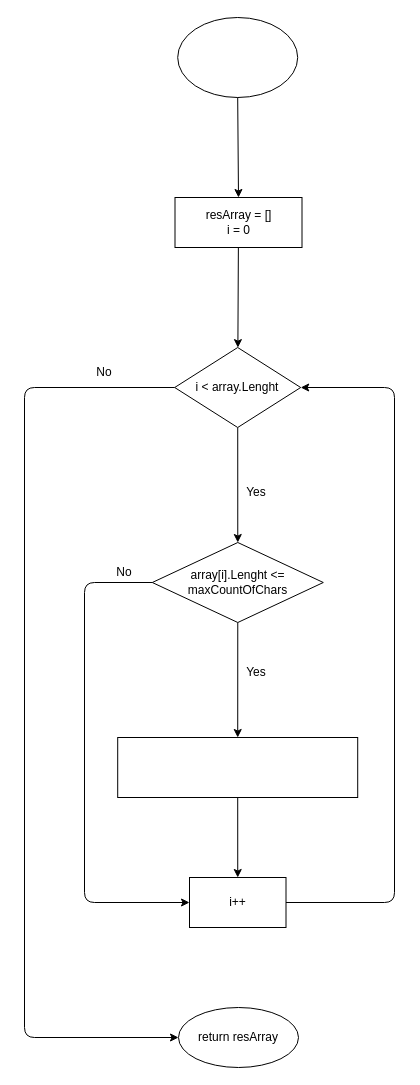
Image size: 420x1085. Some labels were removed from this diagram. The centre of each missing label's shape, as x and y in pixels:
"resArray.Resize(resArray, array.Lenght + 1) resArray[array.Lenght] = i" belongs at [237,767].
"start" belongs at [237,57].
